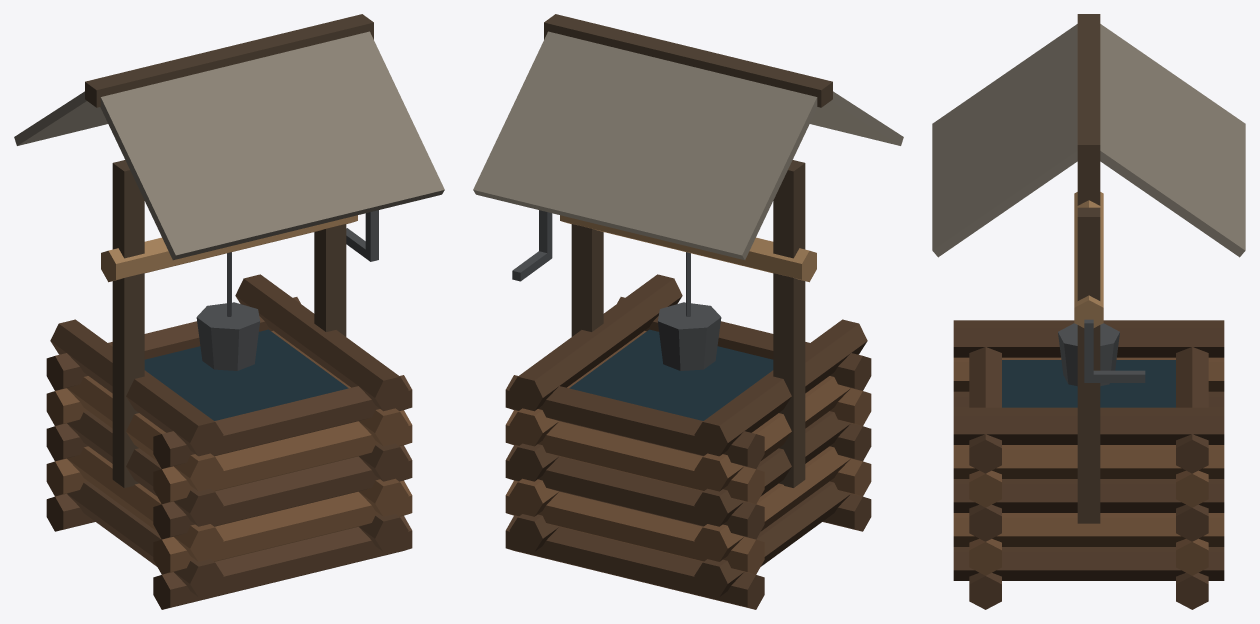
Rendered from колодец.glb.
3 renders of one model, left to right at view 1: azimuth 30°, elevation 25°; view 2: azimuth 150°, elevation 25°; view 3: azimuth 270°, elevation 25°, orthographic. The views are drawn at different scales.
Visible parts, largest first — view 1: колодец; view 2: колодец; view 3: колодец.
Part boxes in pixels (x1,y1,x2,y2): колодец: (14,14,444,609); колодец: (473,14,903,609); колодец: (932,14,1245,609).
Size of the model in its own units: 1.7 by 2.78 by 1.67.
